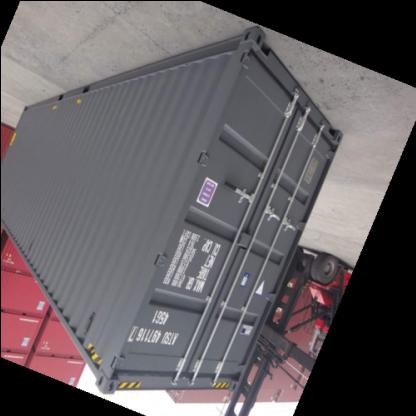Damage: (102, 364, 184, 380)
